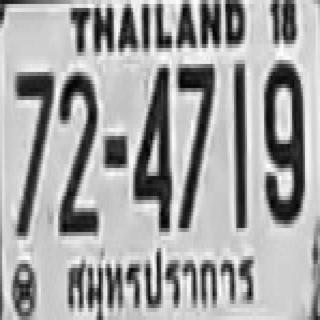N01: (232, 60, 245, 228)
N02: (58, 68, 97, 232)
N04: (131, 60, 170, 228)
N07: (13, 68, 52, 232), (176, 60, 212, 228)
N09: (262, 56, 303, 220)
P57: (62, 245, 257, 318)
